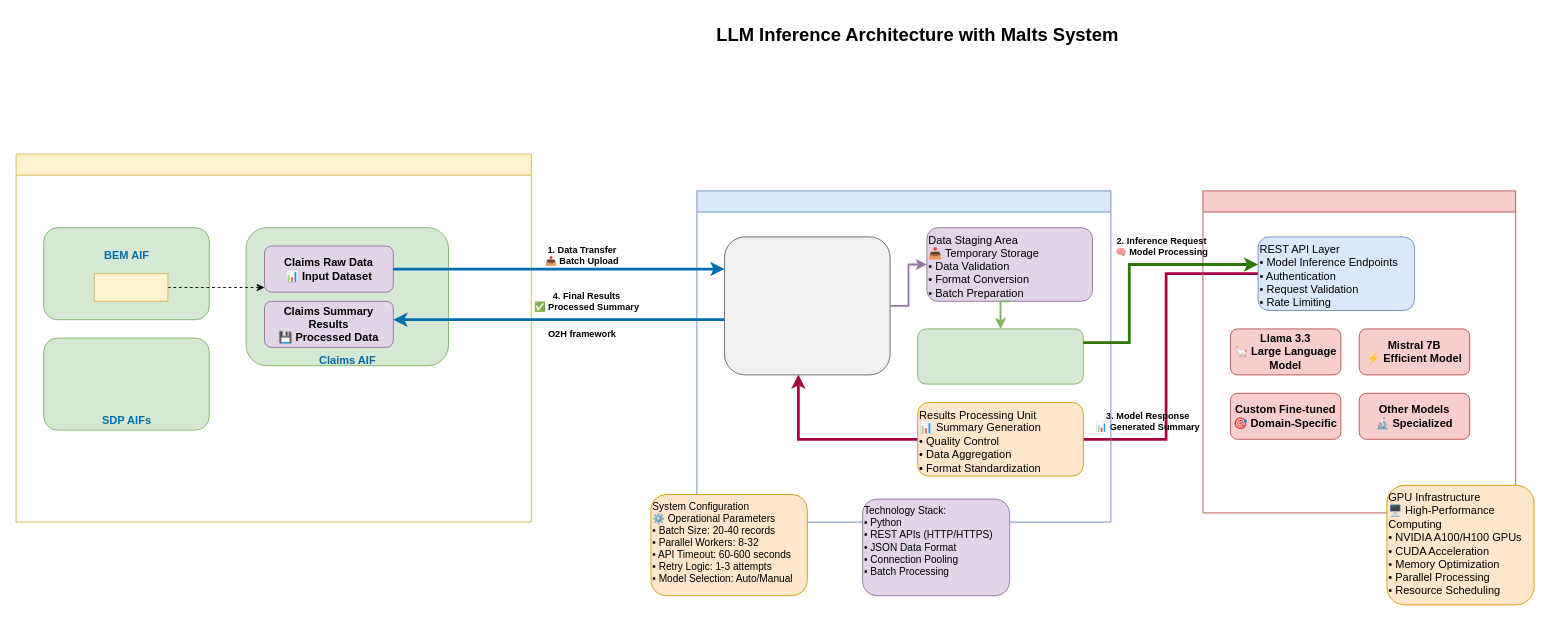
The diagram is 1550 pixels wide and 621 high, and some of its shapes have lost their labels. Each missing label, with the box of its shape:
AIHPC LLM Models (GPU Cluster): (1202, 190, 1516, 513)
Hadoop Cluster (SDP): (15, 153, 531, 522)
HPC Storage Layer 🗄️ Hitachi S3 Bucket: (724, 236, 890, 375)
Malts Inference Engine 🧠 Processing Core: (917, 328, 1083, 384)
MSaas System: (696, 190, 1111, 522)
Pyspark jobs: (93, 273, 168, 301)
